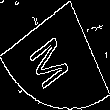M_NE: (30, 22, 80, 88)
